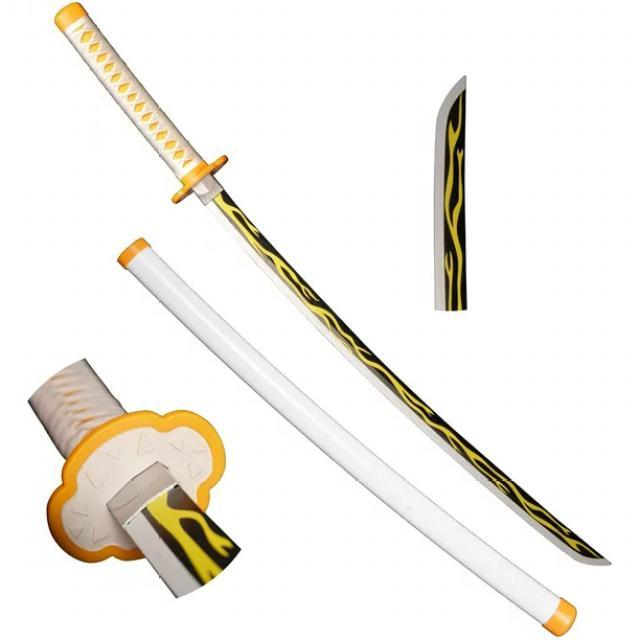katana: (48, 5, 617, 573), (28, 359, 235, 592)
